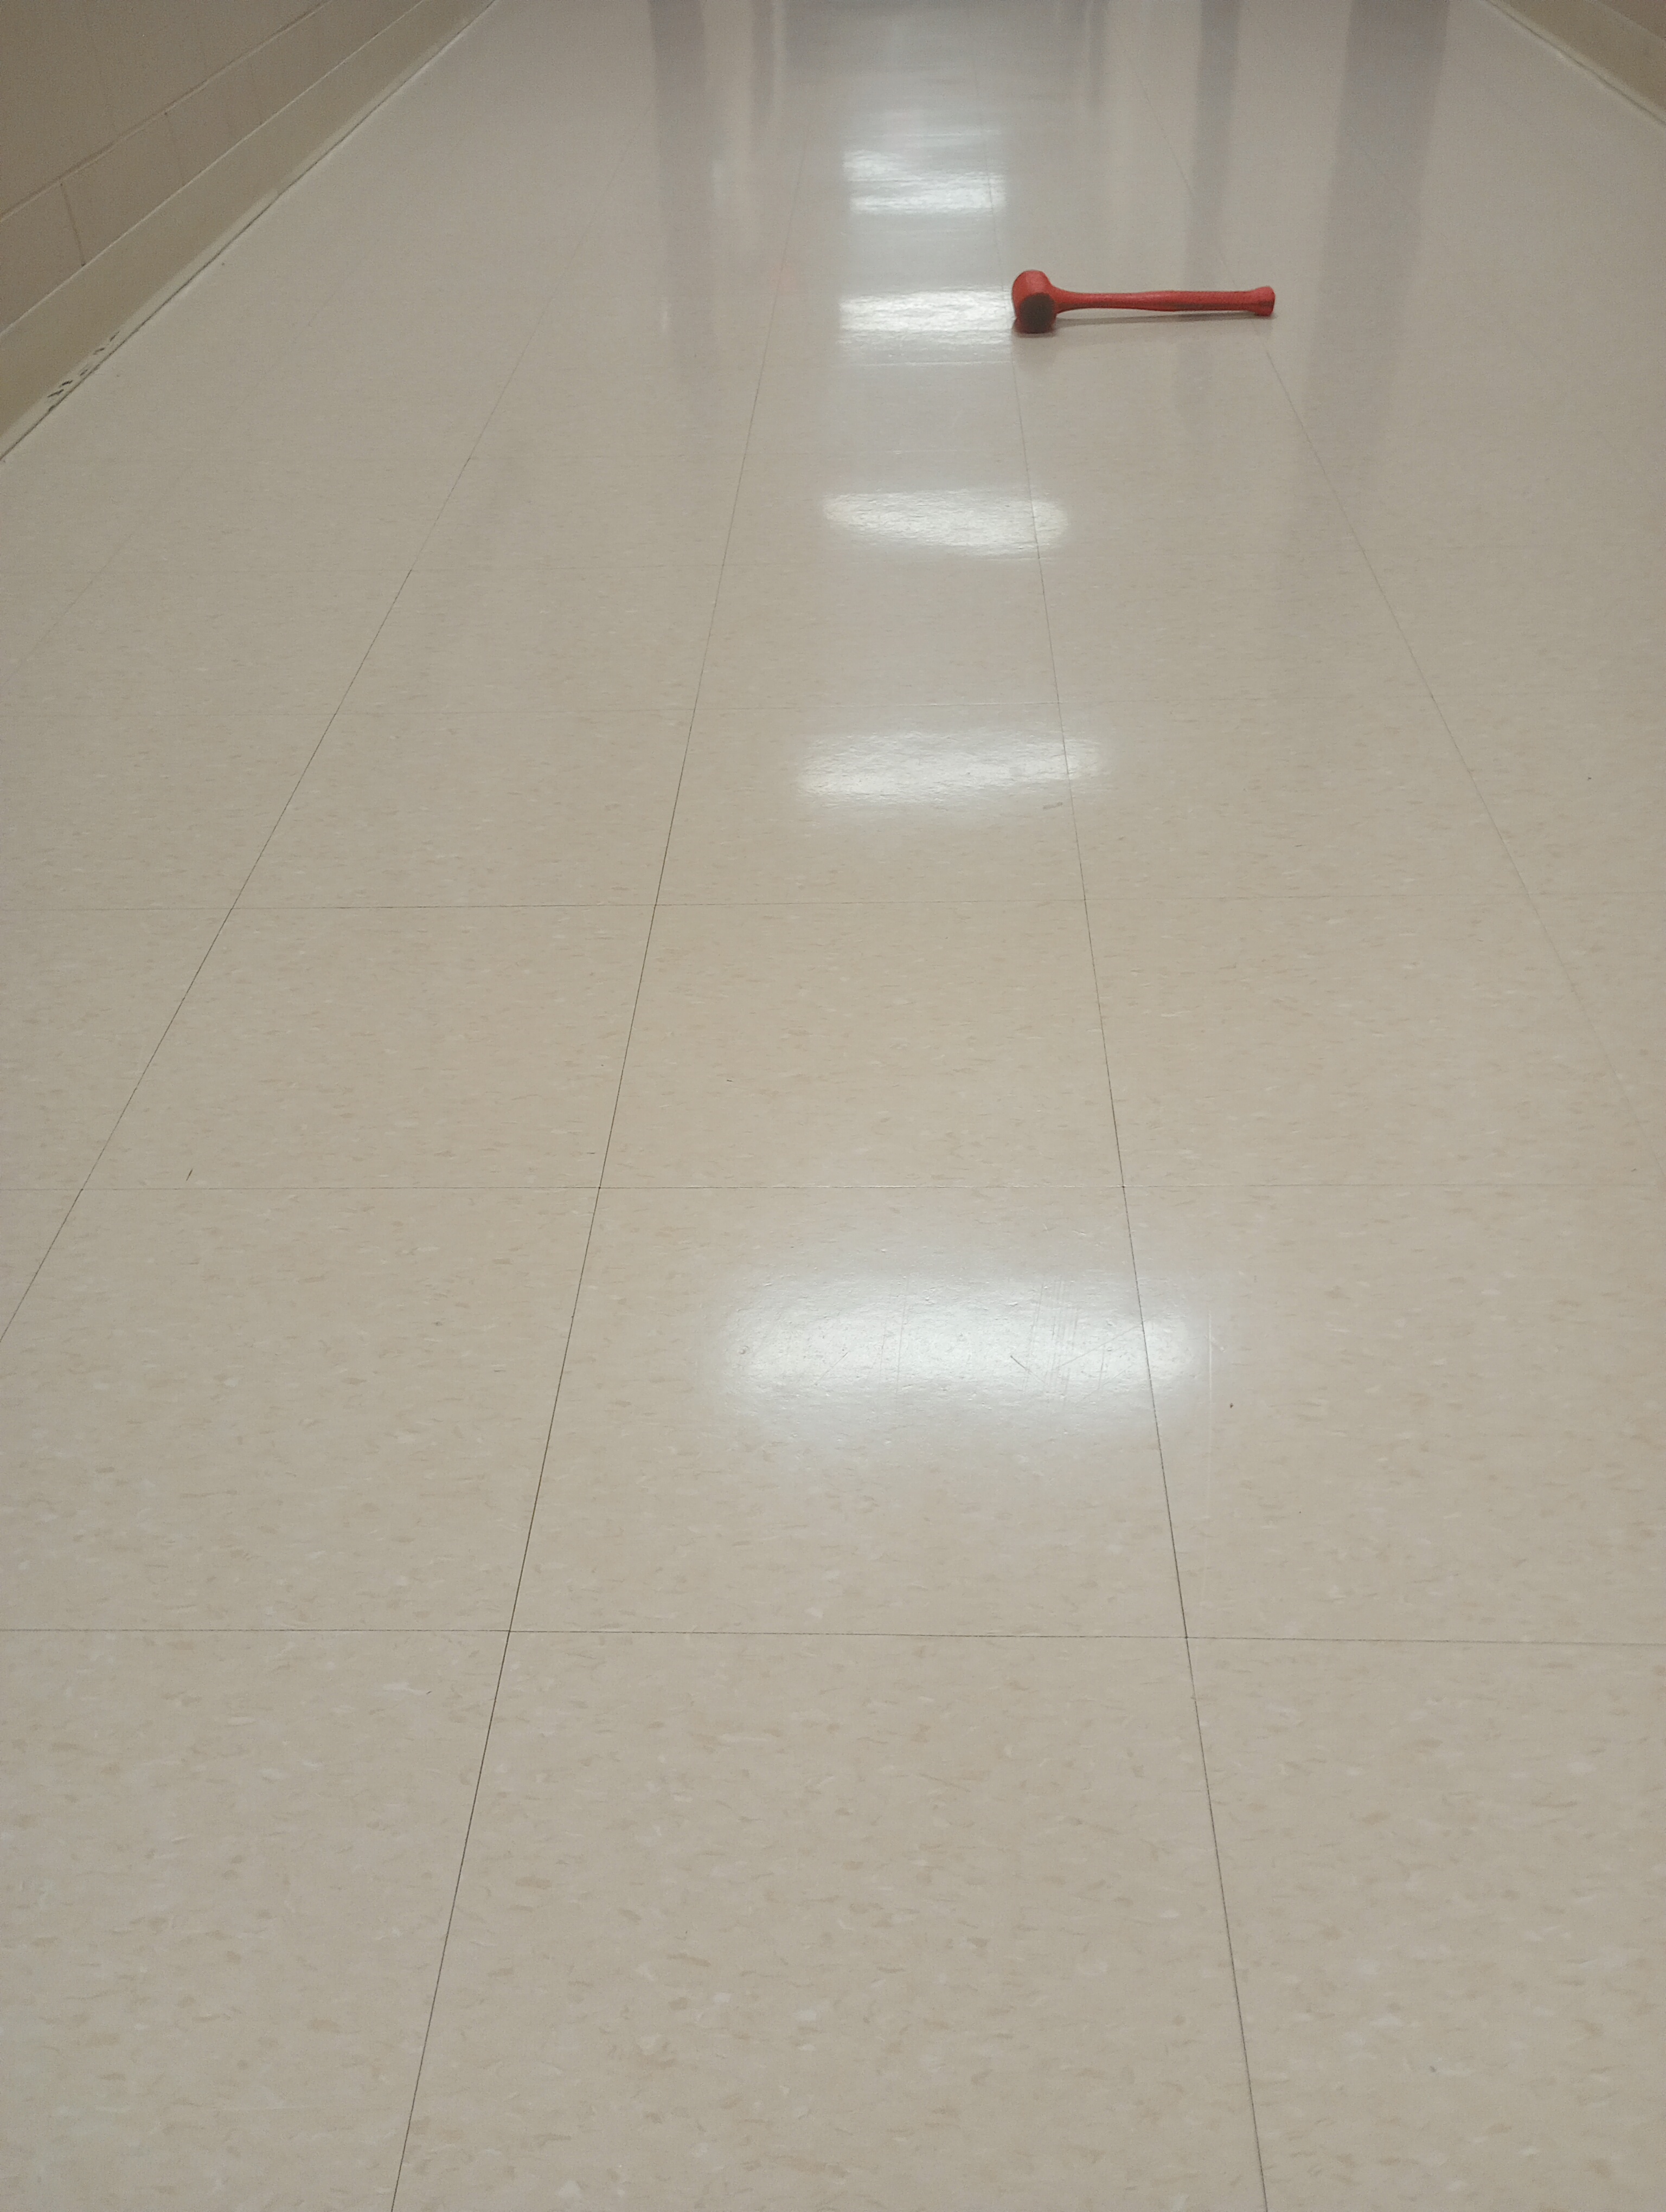bottle: (1006, 259, 1279, 344)
